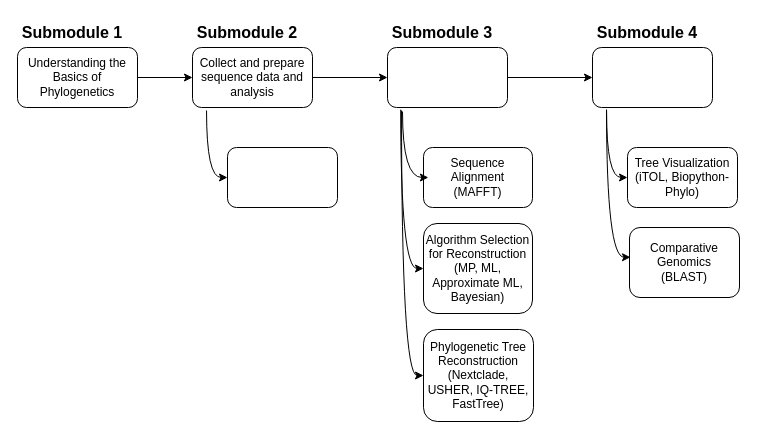
This 757x439 diagram has some shape labels left out. The centre of each missing label's shape, as x and y in pixels:
"Analyze Phylogenetic Tree" goes at pixel 652 77.
"Create Phylogenetic Tree" goes at pixel 447 77.
"Data Collection (NCBI, KEGG, Uniprot)" goes at pixel 282 177.
